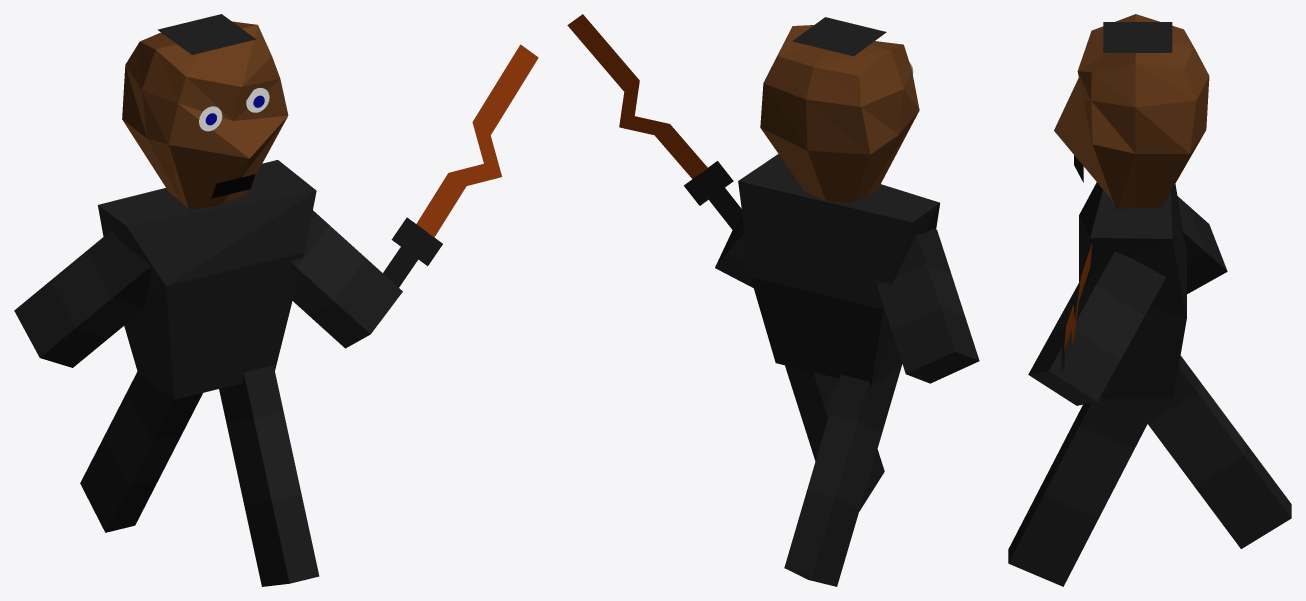
The model's file is swordsman3.obj.
3 views of the same model, side by side, from view 1: azimuth 30°, elevation 25°; view 2: azimuth 150°, elevation 25°; view 3: azimuth 270°, elevation 25° (orthographic). The views are drawn at different scales.
Visible parts, largest first — view 1: Cube.001, Cube, Cube.005, Cube.003, Cube.004, Cube.002, Plane.003_Plane.004, Plane.004_Plane.001, Plane.002_Plane.003, Plane.001_Plane.002; view 2: Cube.001, Cube, Cube.004, Cube.003, Plane.003_Plane.004, Cube.005, Plane.004_Plane.001, Cube.002, Plane.002_Plane.003, Plane.001_Plane.002; view 3: Cube, Cube.005, Cube.001, Cube.004, Cube.002, Cube.003, Plane.004_Plane.001, Plane.003_Plane.004.
Part boxes in pixels (left/top/right/bottom): Cube.001: left=98, top=160, right=316, bottom=399; Cube: left=122, top=21, right=288, bottom=209; Cube.005: left=219, top=365, right=319, bottom=586; Cube.003: left=14, top=230, right=151, bottom=367; Cube.004: left=80, top=371, right=205, bottom=532; Cube.002: left=289, top=210, right=402, bottom=348; Plane.003_Plane.004: left=416, top=44, right=538, bottom=237; Plane.004_Plane.001: left=157, top=14, right=255, bottom=54; Plane.002_Plane.003: left=391, top=217, right=442, bottom=266; Plane.001_Plane.002: left=383, top=243, right=420, bottom=287; Cube.001: left=738, top=154, right=939, bottom=386; Cube: left=760, top=25, right=919, bottom=203; Cube.004: left=784, top=364, right=902, bottom=586; Cube.003: left=875, top=228, right=979, bottom=383; Plane.003_Plane.004: left=567, top=14, right=707, bottom=178; Cube.005: left=785, top=365, right=884, bottom=511; Plane.004_Plane.001: left=792, top=17, right=886, bottom=56; Cube.002: left=715, top=215, right=753, bottom=287; Plane.002_Plane.003: left=684, top=161, right=733, bottom=205; Plane.001_Plane.002: left=709, top=188, right=742, bottom=229; Cube: left=1054, top=14, right=1209, bottom=209; Cube.005: left=1008, top=396, right=1160, bottom=586; Cube.001: left=1079, top=182, right=1186, bottom=398; Cube.004: left=1148, top=355, right=1291, bottom=548; Cube.002: left=1028, top=251, right=1165, bottom=405; Cube.003: left=1177, top=196, right=1227, bottom=293; Plane.004_Plane.001: left=1103, top=22, right=1172, bottom=52; Plane.003_Plane.004: left=1064, top=243, right=1092, bottom=350.
Size of the model in its own units: 5.4 by 5.88 by 2.86.
